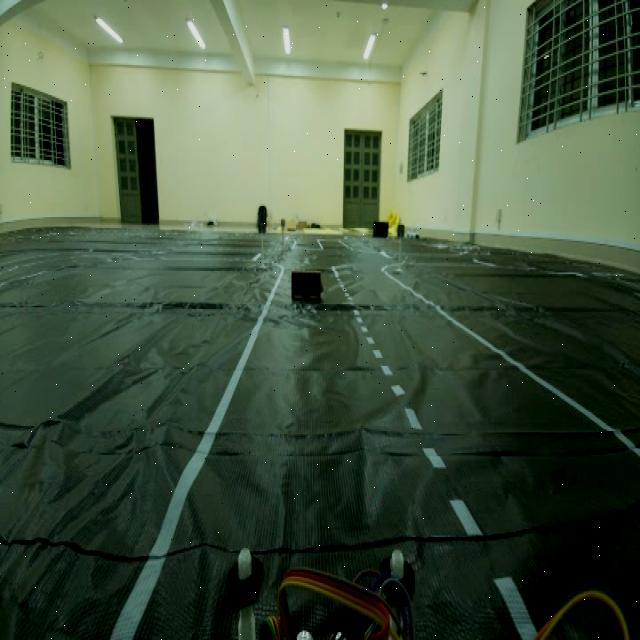roadblock: (288, 266, 328, 314)
